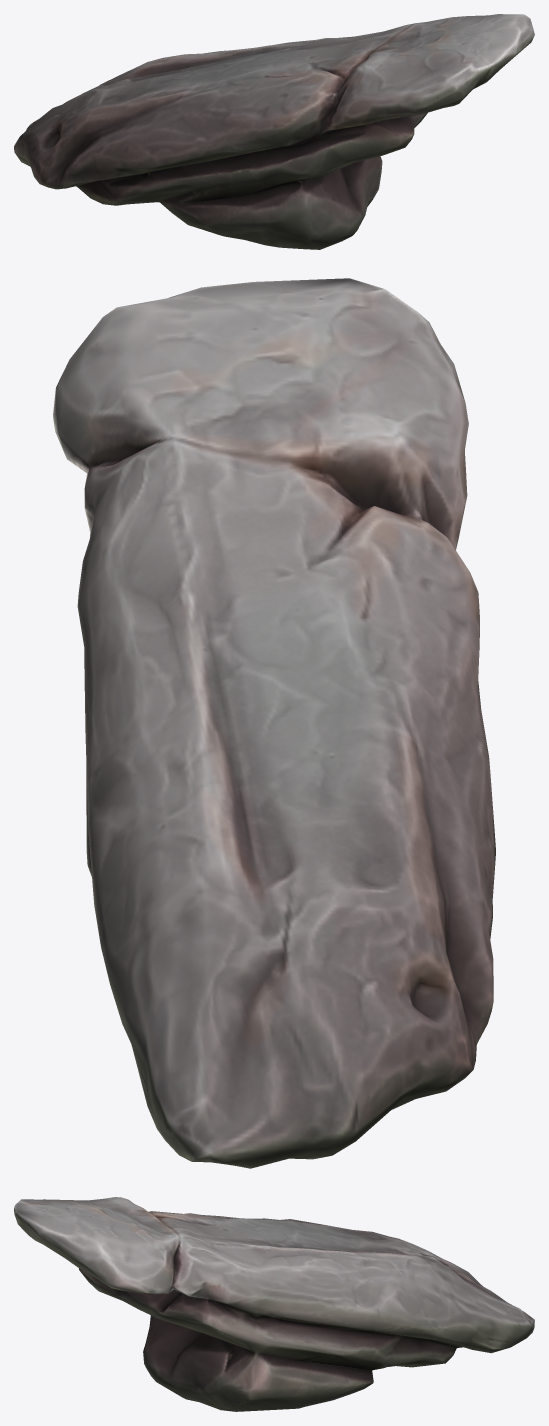
The model's file is rochedo_c.glb.
3 views of the same model, one above another, from view 1: azimuth 30°, elevation 25°; view 2: azimuth 150°, elevation 25°; view 3: azimuth 270°, elevation 25° (orthographic). The views are drawn at different scales.
Visible parts, largest first — view 1: Big_5_BiG_0; view 2: Big_5_BiG_0; view 3: Big_5_BiG_0.
Part boxes in pixels (x1=…): Big_5_BiG_0: x1=14, y1=14, x2=534, y2=249; Big_5_BiG_0: x1=53, y1=278, x2=495, y2=1168; Big_5_BiG_0: x1=14, y1=1197, x2=534, y2=1411.
Bounding box in the file's own units: 1.57 × 1 × 2.09.
1 material, 1 textured.
